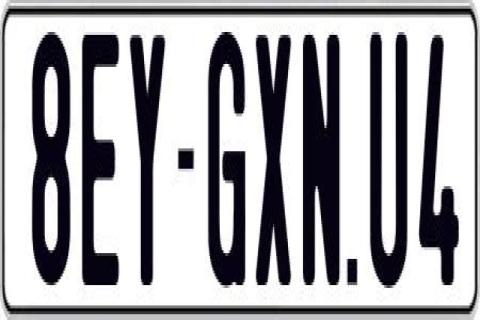0: (32, 27, 74, 297), (417, 32, 461, 288)
E: (82, 29, 120, 294)
G: (206, 27, 246, 297)
N: (303, 27, 341, 280)
U: (370, 27, 410, 297)
X: (257, 32, 297, 300)
Y: (129, 29, 167, 291)
